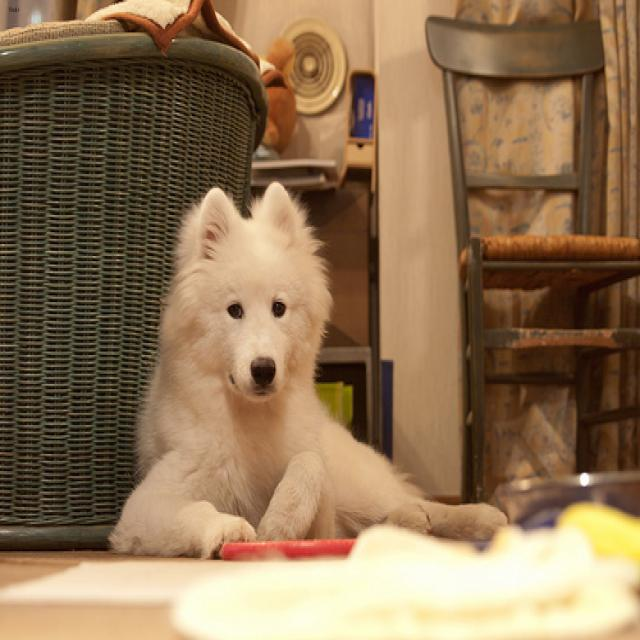dog-samoyed: (99, 174, 517, 568)
